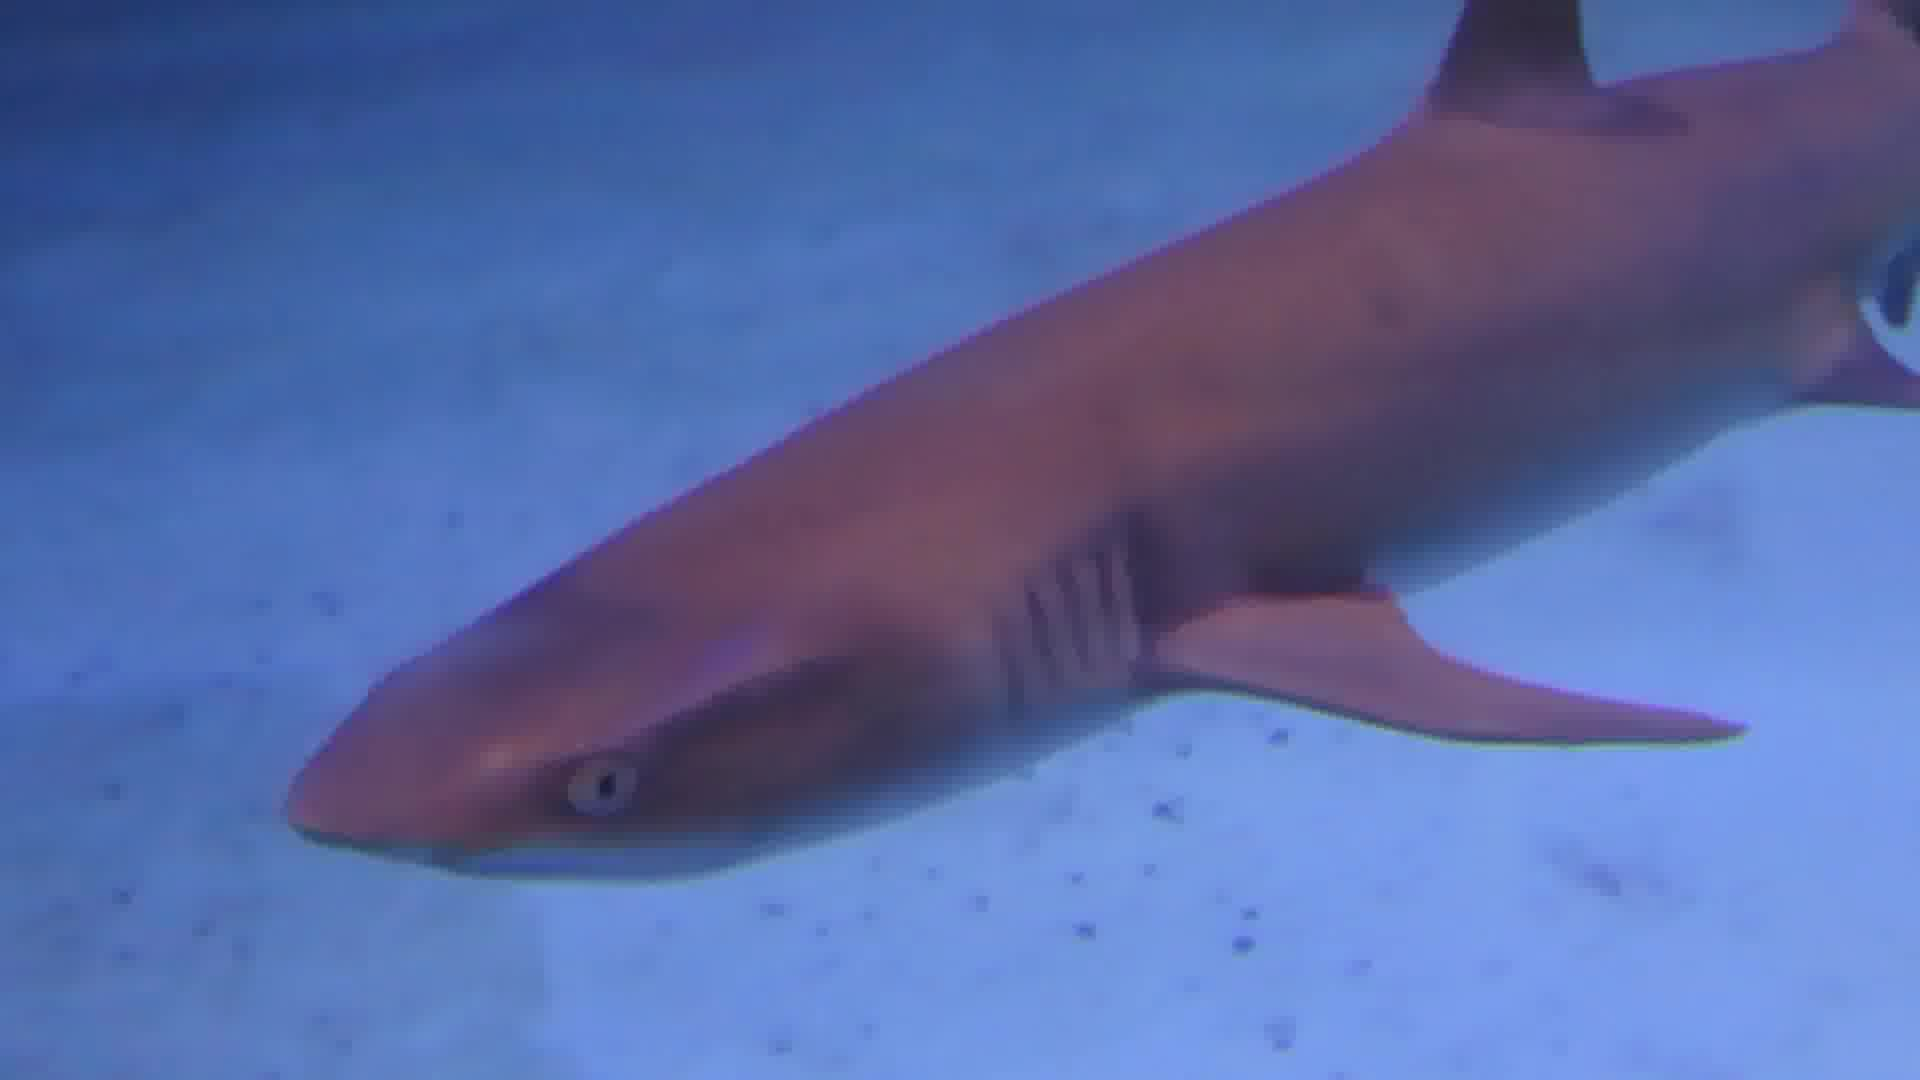Triaenodon obesus: (237, 1, 1920, 887)
